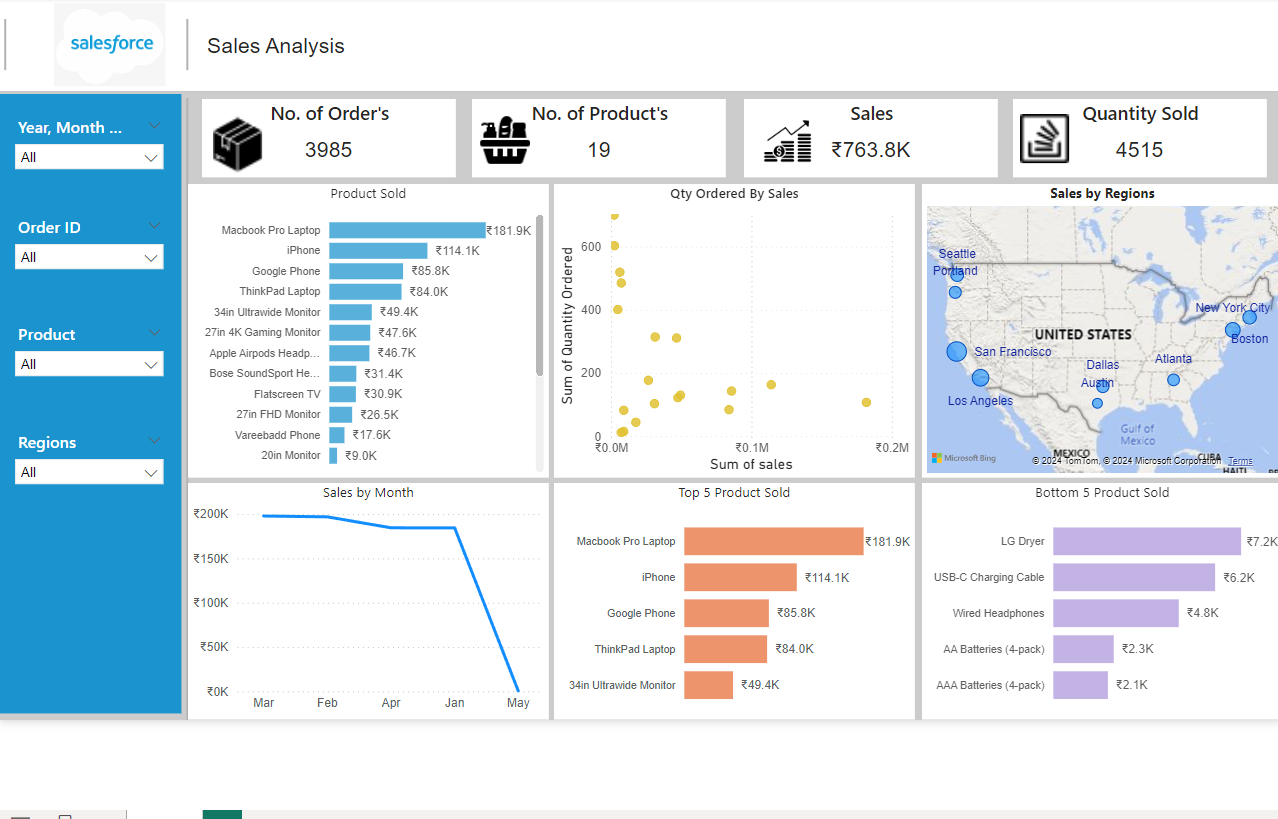

Layout of this report page (visuals, bound fields, positions):
{"tool":"powerbi","page":{"name":"Page 1","canvas":[1280,720],"ordinal":0},"visuals":[{"type":"shape","box":[0,0,1280.4,185.3],"z":0},{"type":"textbox","box":[0,0,1280.4,93.1],"z":1000},{"type":"image","box":[0,0,220.8,93.1],"z":2000},{"type":"shape","box":[66.5,21.3,242.1,51.4],"z":3000},{"type":"shape","box":[0,21.3,12.4,51.4],"z":4000},{"type":"textbox","box":[202.2,31,166.7,34.6],"z":5000},{"type":"card","title":"No. of  Order''s","fields":{"Values":["CountNonNull(Data-Sets.Order ID)"]},"box":[202.2,101.1,252.7,78],"z":6000},{"type":"card","title":"No. of  Product''s","fields":{"Values":["Count(Data-Sets.Product)"]},"box":[471.7,101.1,252.7,78],"z":7000},{"type":"card","title":"Sales","fields":{"Values":["Sum(Data-Sets.sales)"]},"box":[743.1,101.1,252.7,78],"z":8000},{"type":"card","title":"Quantity Sold","fields":{"Values":["Sum(Data-Sets.Quantity Ordered)"]},"box":[1011.7,101.1,252.7,78],"z":9000},{"type":"image","box":[208.4,112.6,58.5,66.5],"z":10000},{"type":"image","box":[471.7,110.8,65.6,63.8],"z":11000},{"type":"image","box":[752.8,112.6,66.5,61.2],"z":12000},{"type":"image","box":[1011.7,110.8,63.8,58.5],"z":13000},{"type":"shape","box":[66.5,99.3,242.1,620.7],"z":14000},{"type":"textbox","box":[0,95.8,181.8,618],"z":15000},{"type":"slicer","fields":{"Values":["Data-Sets.Year","Data-Sets.Month Name","Data-Sets.Order Date"]},"box":[6.2,112.6,168.5,86],"z":16000},{"type":"slicer","fields":{"Values":["Data-Sets.Order ID"]},"box":[6.2,212.8,168.5,86],"z":17000},{"type":"slicer","fields":{"Values":["Data-Sets.Product"]},"box":[6.2,319.2,168.5,86],"z":18000},{"type":"slicer","fields":{"Values":["Data-Sets.Regions"]},"box":[6.2,427.4,168.5,86],"z":19000},{"type":"map","title":"Sales by Regions","fields":{"Size":["Sum(Data-Sets.sales)"],"Category":["Data-Sets.Regions"]},"box":[920.4,185.3,360,292.6],"z":20000},{"type":"scatterChart","title":"Qty Ordered By Sales ","fields":{"X":["Sum(Data-Sets.sales)"],"Y":["Sum(Data-Sets.Quantity Ordered)"],"Category":["Data-Sets.Product"]},"box":[554.2,185.3,360,292.6],"z":21000},{"type":"clusteredBarChart","title":"Product Sold","fields":{"Category":["Data-Sets.Product"],"Y":["Sum(Data-Sets.sales)"]},"box":[188.9,185.3,360,292.6],"z":22000},{"type":"lineChart","title":"Sales by Month","fields":{"Category":["Data-Sets.Month Name"],"Y":["Sum(Data-Sets.sales)"]},"box":[188.9,484.1,360,235.9],"z":23000},{"type":"clusteredBarChart","title":"Top 5 Product Sold","fields":{"Category":["Data-Sets.Product"],"Y":["Sum(Data-Sets.sales)"]},"box":[554.2,484.1,360,235.9],"z":24000},{"type":"clusteredBarChart","title":"Bottom 5 Product Sold","fields":{"Category":["Data-Sets.Product"],"Y":["Sum(Data-Sets.sales)"]},"box":[920.4,484.1,360,235.9],"z":25000}]}

Visuals, with their boxes in screenshot pixels (x1, y1, x2, y2):
shape: x1=0 y1=0 x2=1277 y2=179
textbox: x1=0 y1=0 x2=1277 y2=85
image: x1=0 y1=0 x2=212 y2=85
shape: x1=55 y1=12 x2=302 y2=64
textbox: x1=193 y1=22 x2=363 y2=57
"No. of  Order''s" card: x1=193 y1=93 x2=451 y2=173
"No. of  Product''s" card: x1=468 y1=93 x2=726 y2=173
"Sales" card: x1=745 y1=93 x2=1003 y2=173
"Quantity Sold" card: x1=1019 y1=93 x2=1277 y2=173
image: x1=199 y1=105 x2=259 y2=173
image: x1=468 y1=103 x2=535 y2=168
image: x1=755 y1=105 x2=823 y2=167
image: x1=1019 y1=103 x2=1085 y2=163
shape: x1=55 y1=91 x2=302 y2=725
textbox: x1=0 y1=88 x2=172 y2=719
slicer - Data-Sets.Year x Data-Sets.Month Name: x1=0 y1=105 x2=165 y2=193
slicer - Data-Sets.Order ID: x1=0 y1=207 x2=165 y2=295
slicer - Data-Sets.Product: x1=0 y1=316 x2=165 y2=404
slicer - Data-Sets.Regions: x1=0 y1=426 x2=165 y2=514
"Sales by Regions" map: x1=926 y1=179 x2=1277 y2=478
"Qty Ordered By Sales " scatterChart: x1=552 y1=179 x2=920 y2=478
"Product Sold" clusteredBarChart: x1=180 y1=179 x2=547 y2=478
"Sales by Month" lineChart: x1=180 y1=484 x2=547 y2=725
"Top 5 Product Sold" clusteredBarChart: x1=552 y1=484 x2=920 y2=725
"Bottom 5 Product Sold" clusteredBarChart: x1=926 y1=484 x2=1277 y2=725
